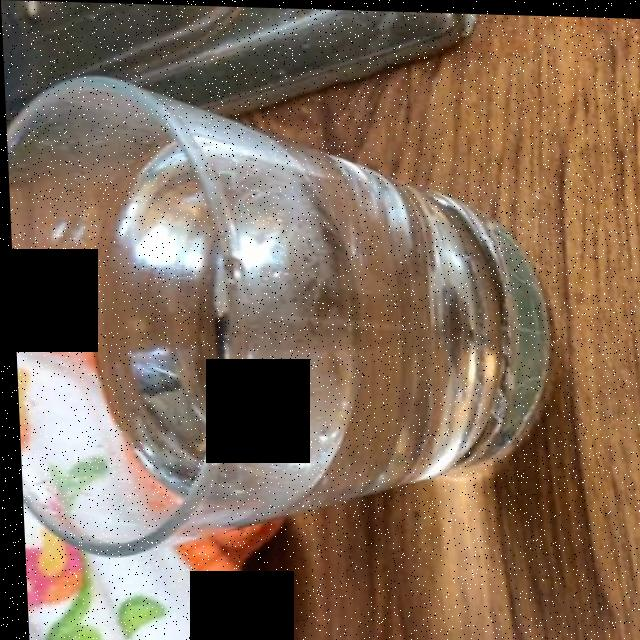water: (41, 131, 515, 530)
